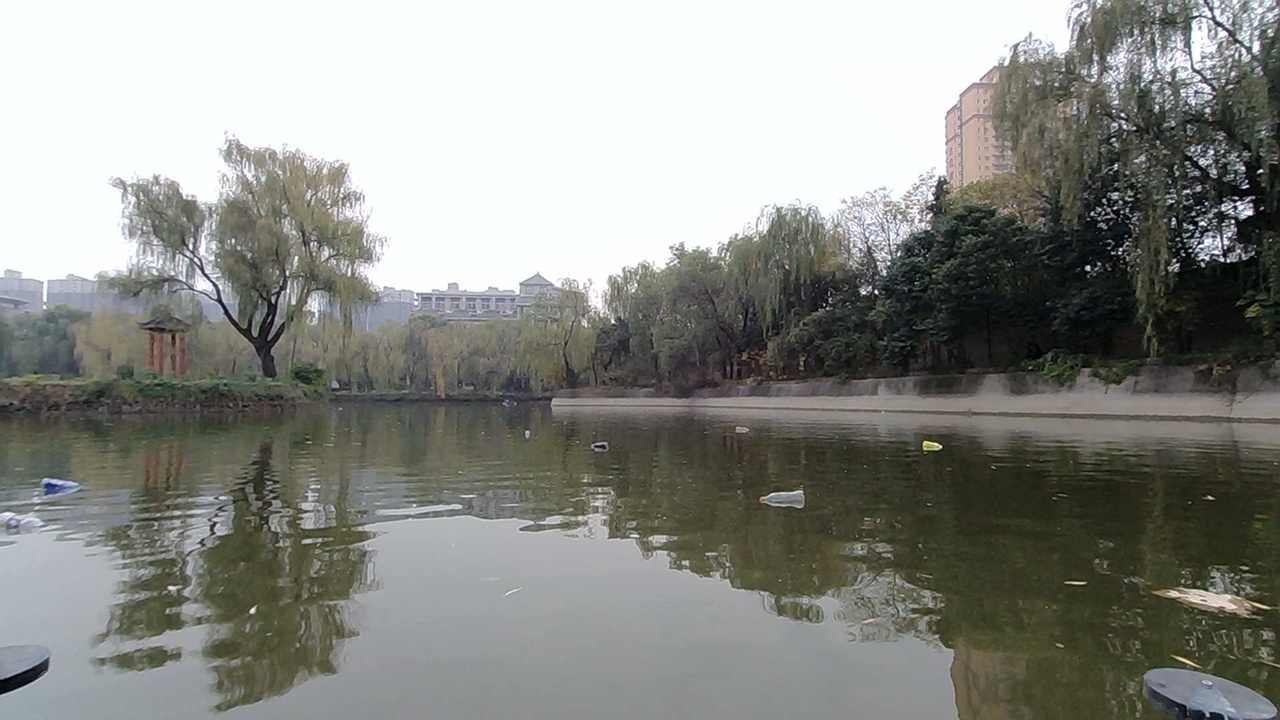bottle: (755, 464, 818, 521), (0, 502, 47, 544), (913, 421, 950, 462), (36, 476, 83, 505), (728, 415, 767, 439), (591, 425, 615, 460), (512, 421, 541, 449)
